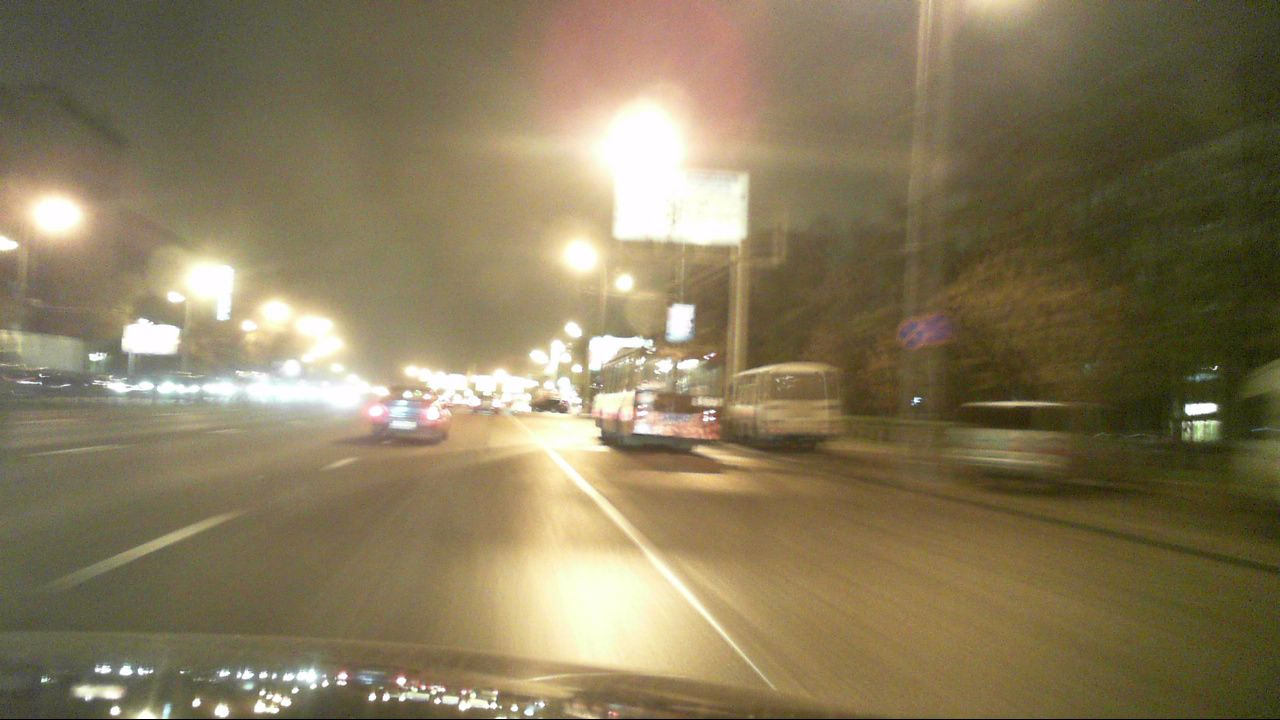No Parking: (895, 317, 928, 351)
